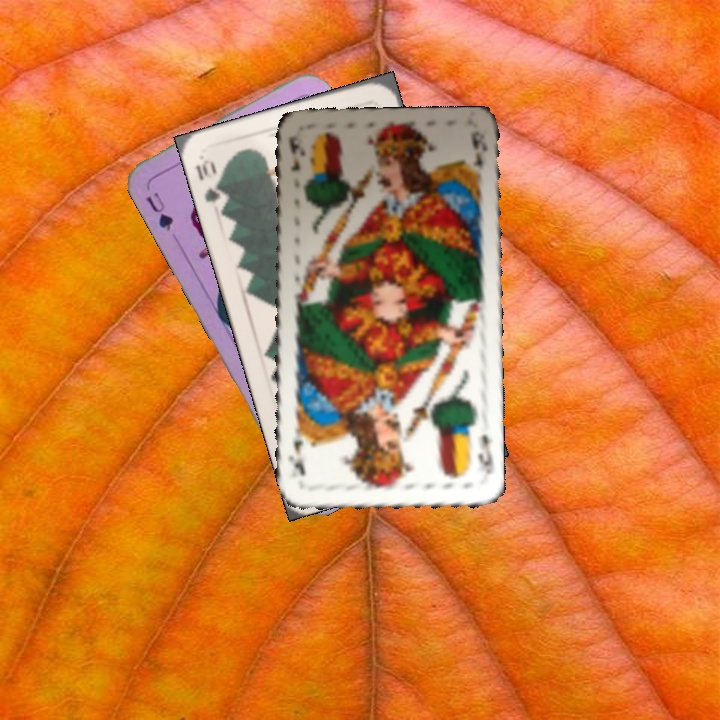EK: (473, 430, 496, 477), (284, 134, 306, 173)
G10: (191, 155, 230, 210)
GU: (141, 188, 177, 234)
